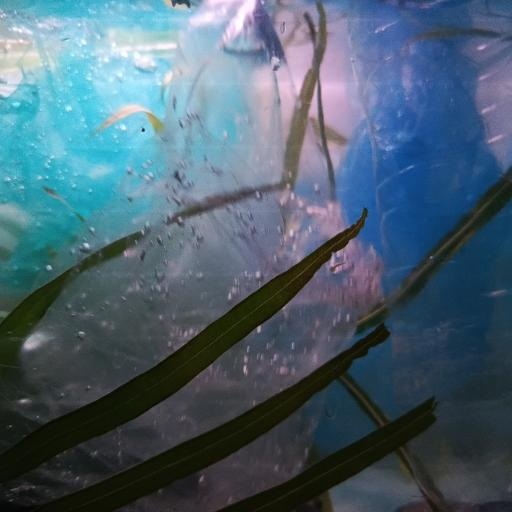plastic_bag: (0, 0, 386, 508), (3, 3, 373, 499), (282, 0, 512, 467), (2, 0, 260, 308)
